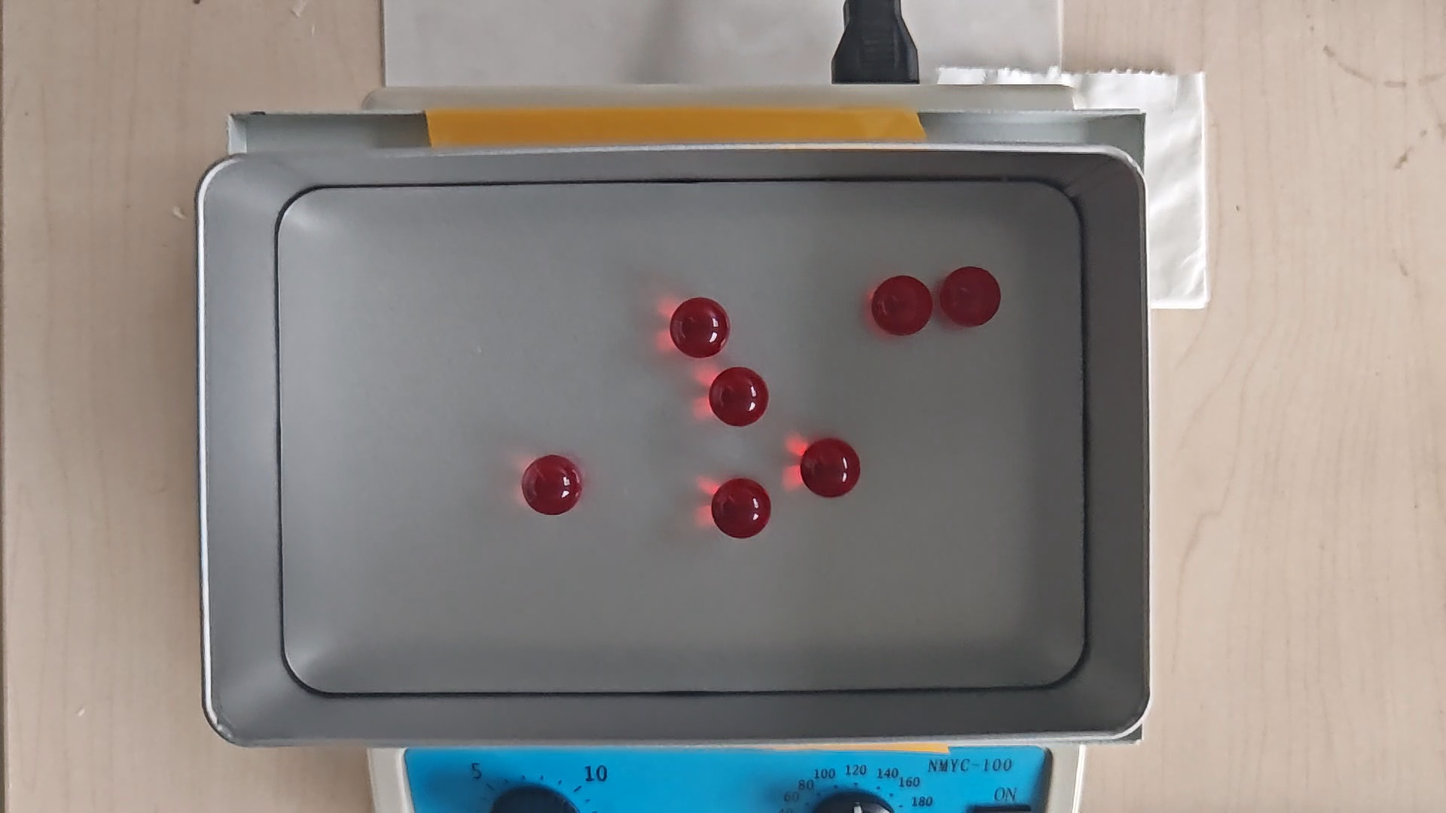ball: (710, 476, 773, 541), (669, 296, 731, 359), (938, 266, 1002, 327), (800, 437, 862, 499), (520, 455, 582, 516), (708, 367, 770, 428), (872, 276, 933, 337)
container: (276, 184, 1091, 698)
